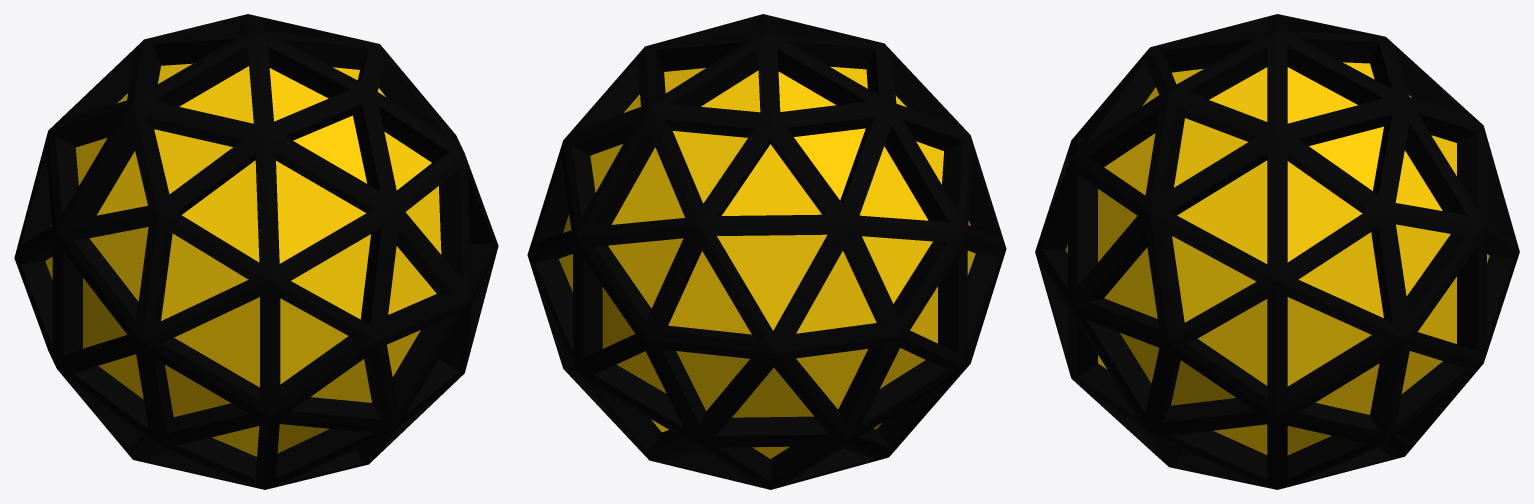
File: glowsphere.gltf
3 renders of one model, left to right at view 1: azimuth 30°, elevation 25°; view 2: azimuth 150°, elevation 25°; view 3: azimuth 270°, elevation 25°, orthographic.
Visible parts, largest first — view 1: GeoSphere06.001, GeoSphere06; view 2: GeoSphere06.001, GeoSphere06; view 3: GeoSphere06.001, GeoSphere06.
Part boxes in pixels (x1,y1,x2,y2): GeoSphere06.001: (14,14,498,489); GeoSphere06: (45,63,441,456); GeoSphere06.001: (527,14,1006,489); GeoSphere06: (559,66,975,458); GeoSphere06.001: (1035,14,1519,489); GeoSphere06: (1065,62,1489,455).
Bounding box in the file's own units: 8.95 × 9.41 × 9.41.
